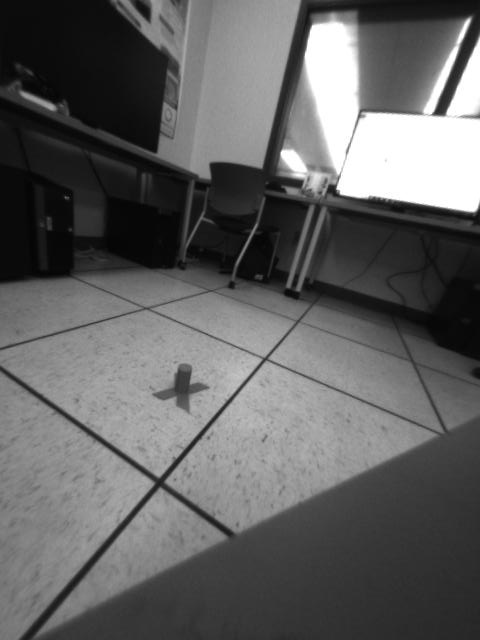X: (153, 363, 211, 412)
